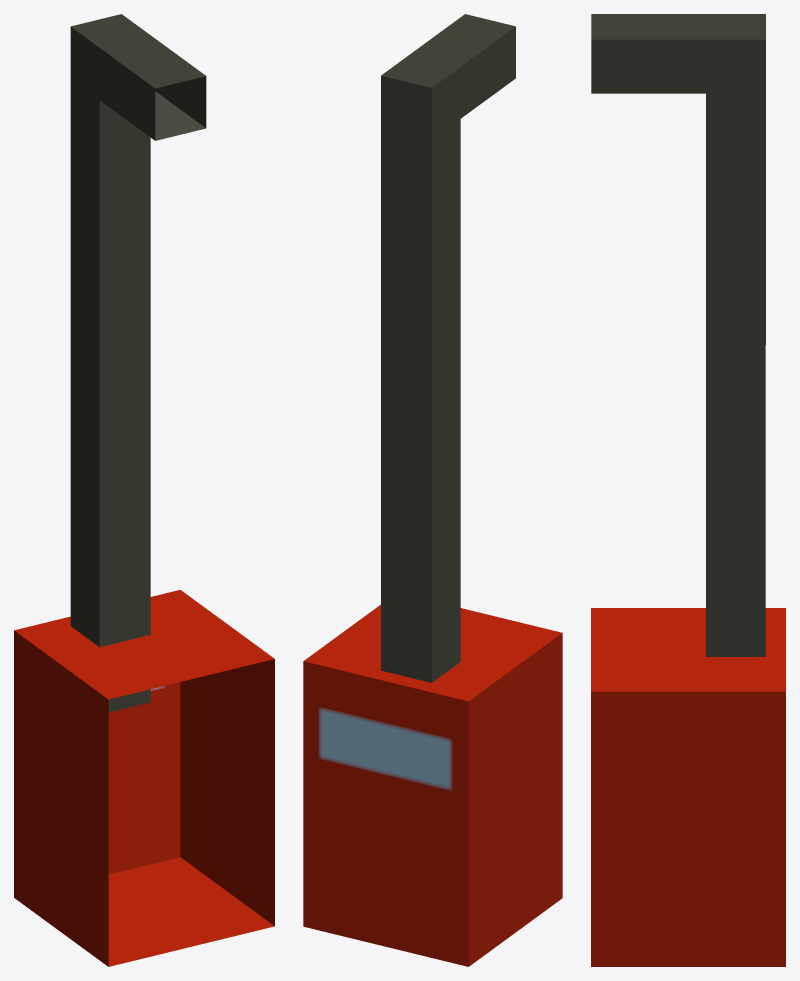
File: PowerBox_04.fbx
The picture shows the model from 3 angles, left to right: view 1: azimuth 30°, elevation 25°; view 2: azimuth 150°, elevation 25°; view 3: azimuth 270°, elevation 25°; orthographic projection. The views are drawn at different scales.
Visible parts, largest first — view 1: PowerBox_04; view 2: PowerBox_04; view 3: PowerBox_04.
Part boxes in pixels (x1,y1,x2,y2): PowerBox_04: [14, 14, 274, 966]; PowerBox_04: [303, 14, 562, 966]; PowerBox_04: [591, 14, 785, 966].
Bounding box in the file's own units: 0.3573 × 1.78 × 0.3515.
